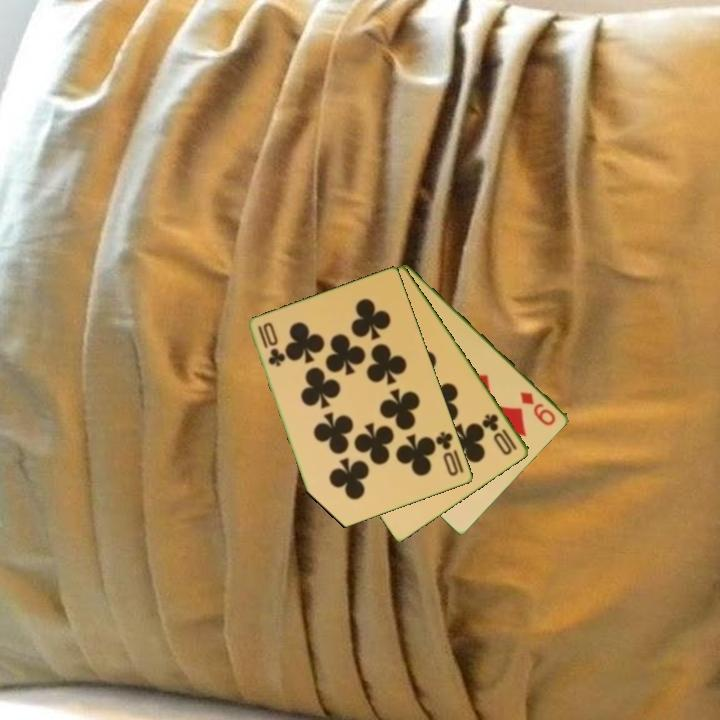10c: (479, 410, 520, 458), (255, 322, 287, 370), (432, 428, 462, 479)
9d: (517, 388, 559, 429)
